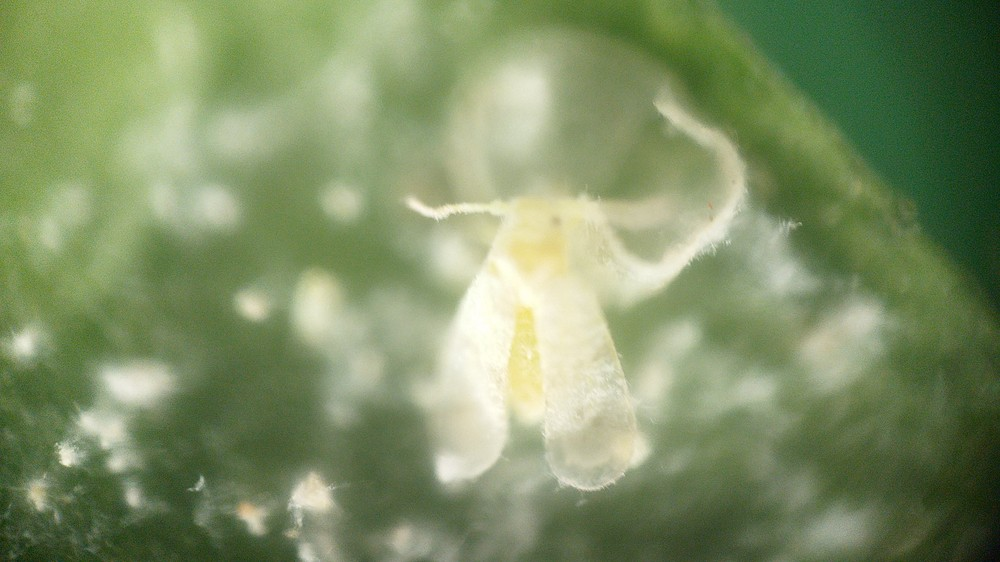Mosca Blanca: (357, 170, 710, 503)
